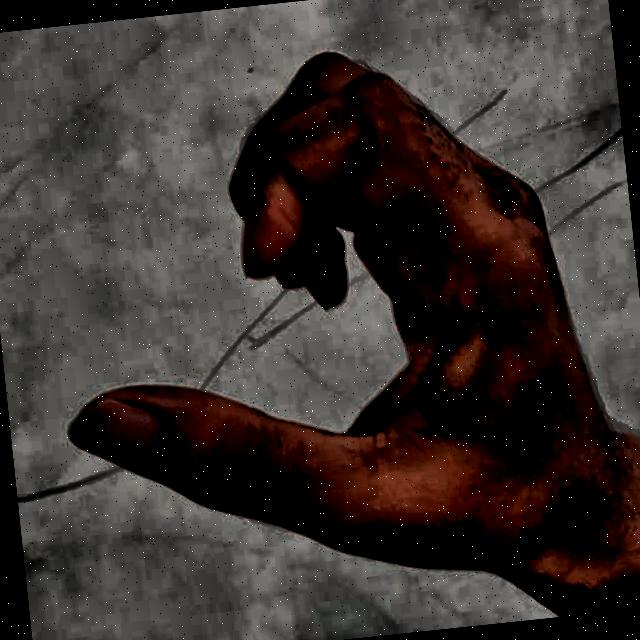Kha: (5, 0, 640, 633)
